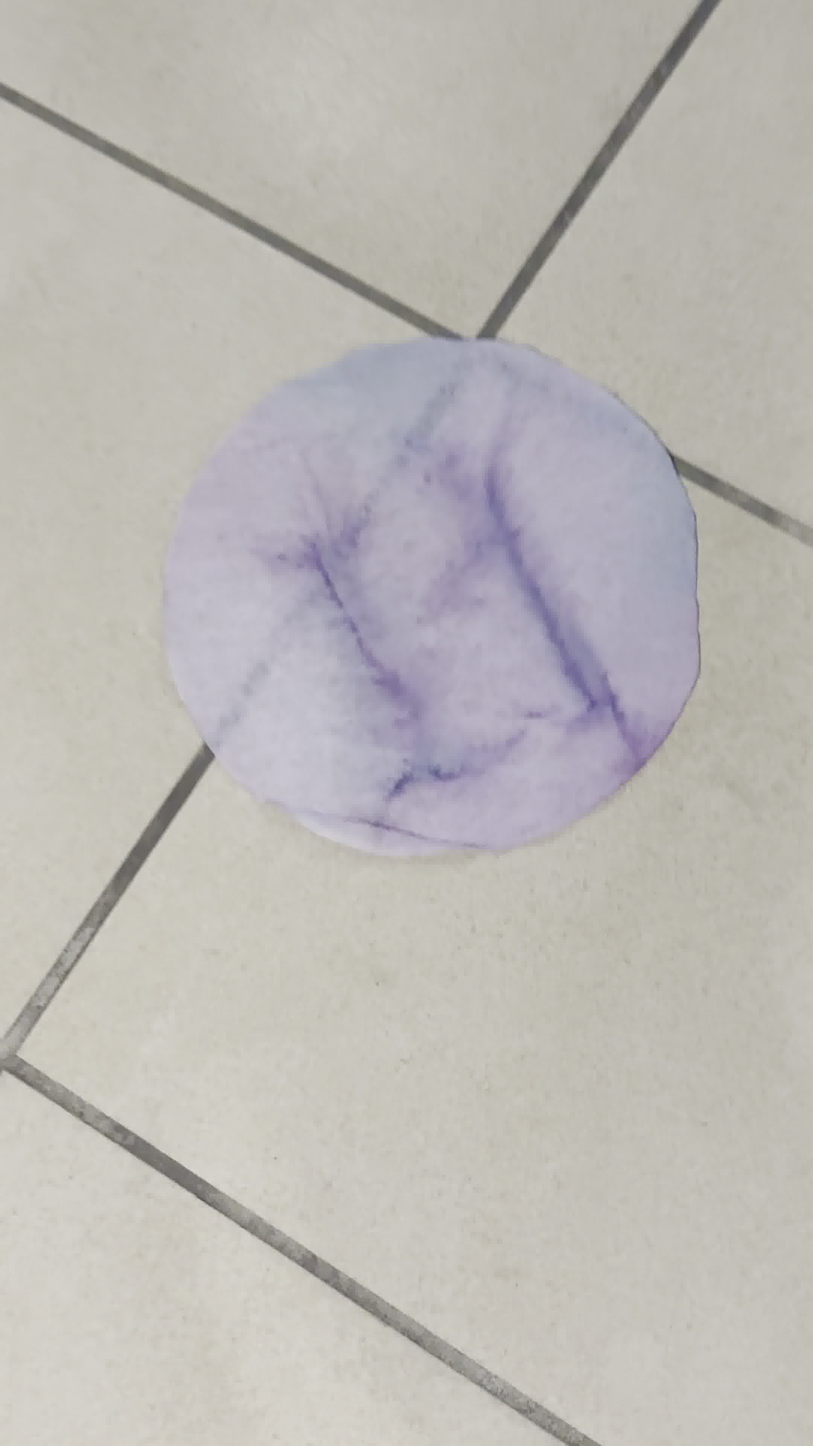Target: (156, 336, 701, 860)
